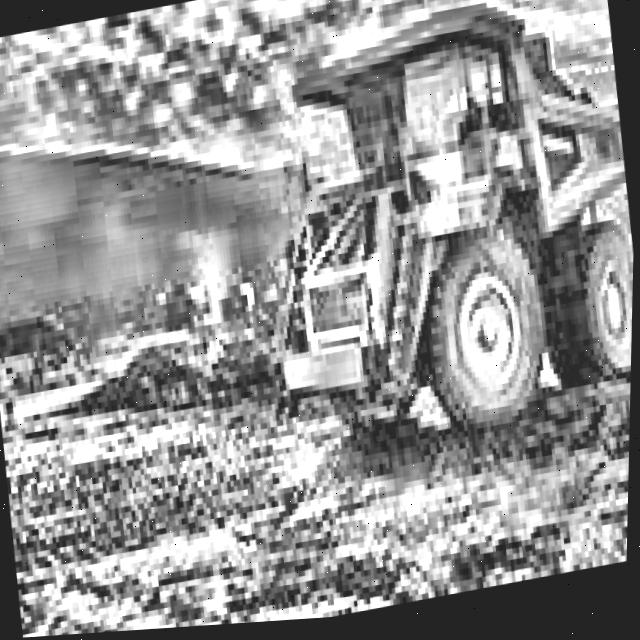dump_truck: (219, 0, 640, 479)
